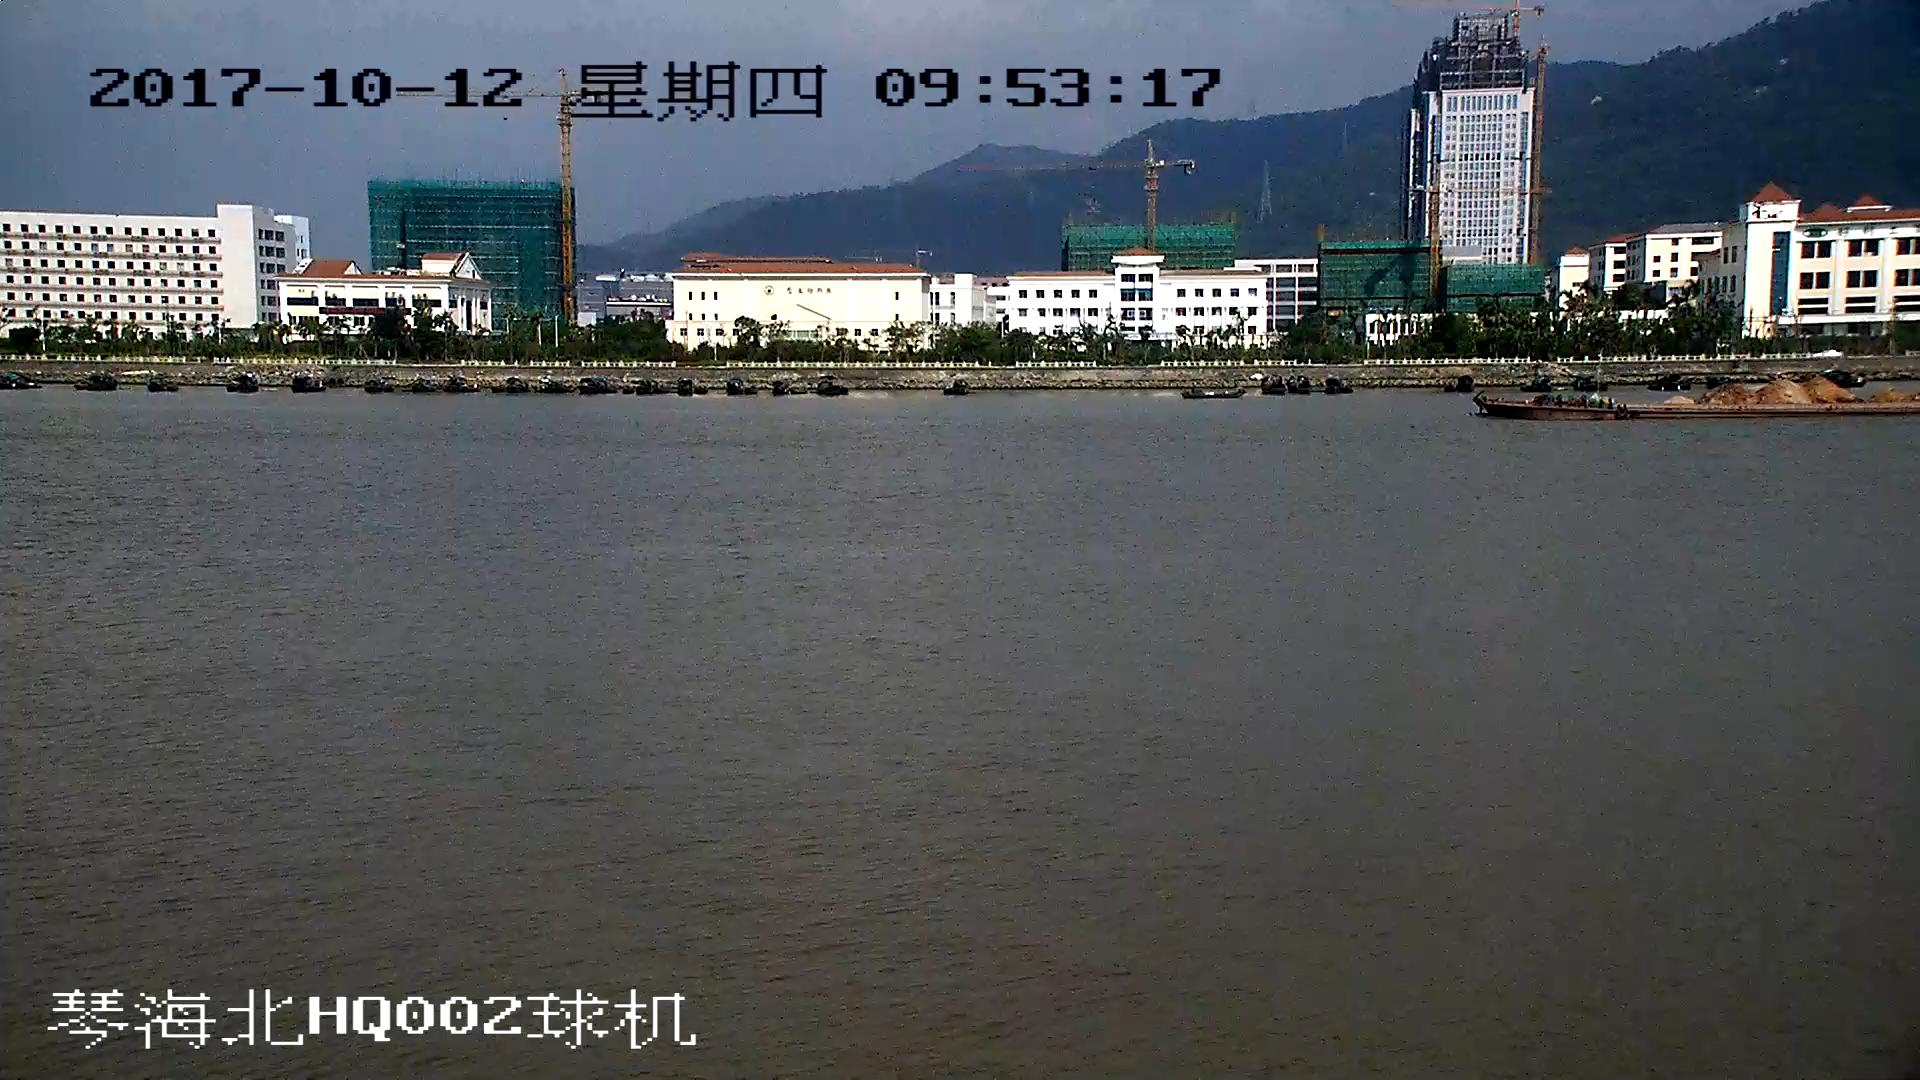ore carrier: (1477, 372, 1920, 417)
